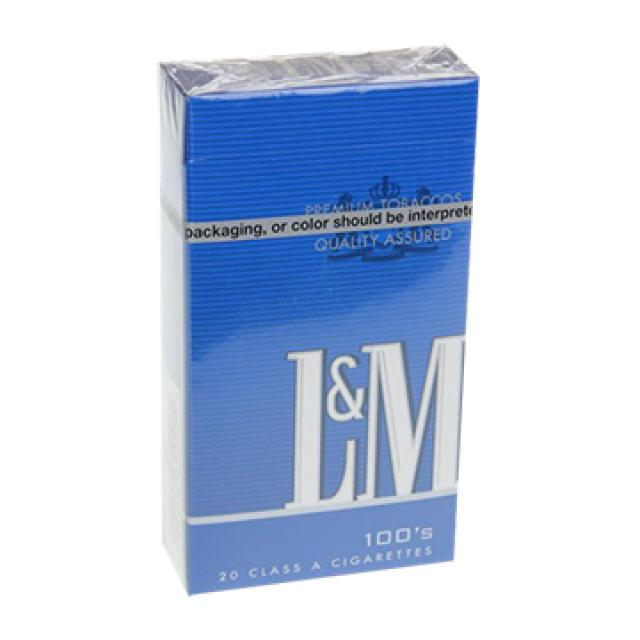lm: (147, 40, 468, 610)
